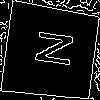N: (25, 27, 74, 69)
